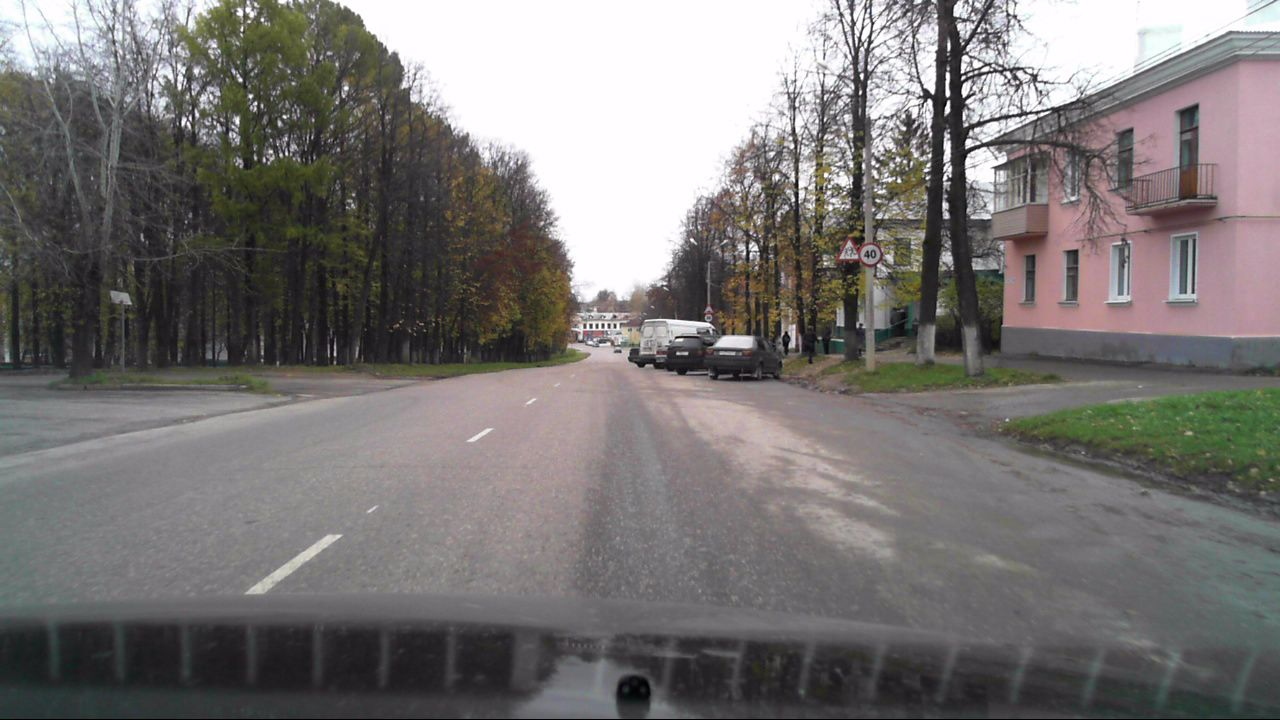speed_warning_40: (859, 243, 882, 266)
